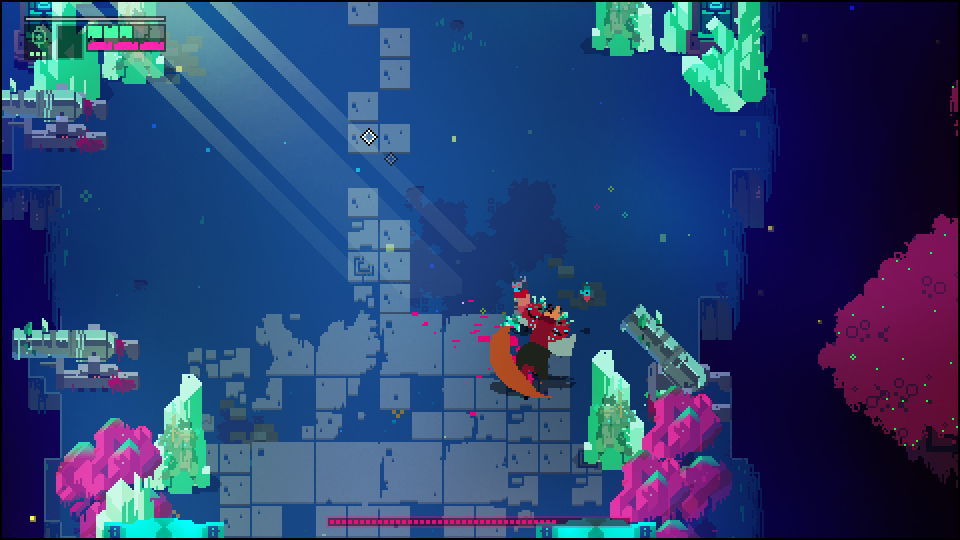hanged_man: (494, 297, 568, 397)
player: (510, 274, 531, 310)
